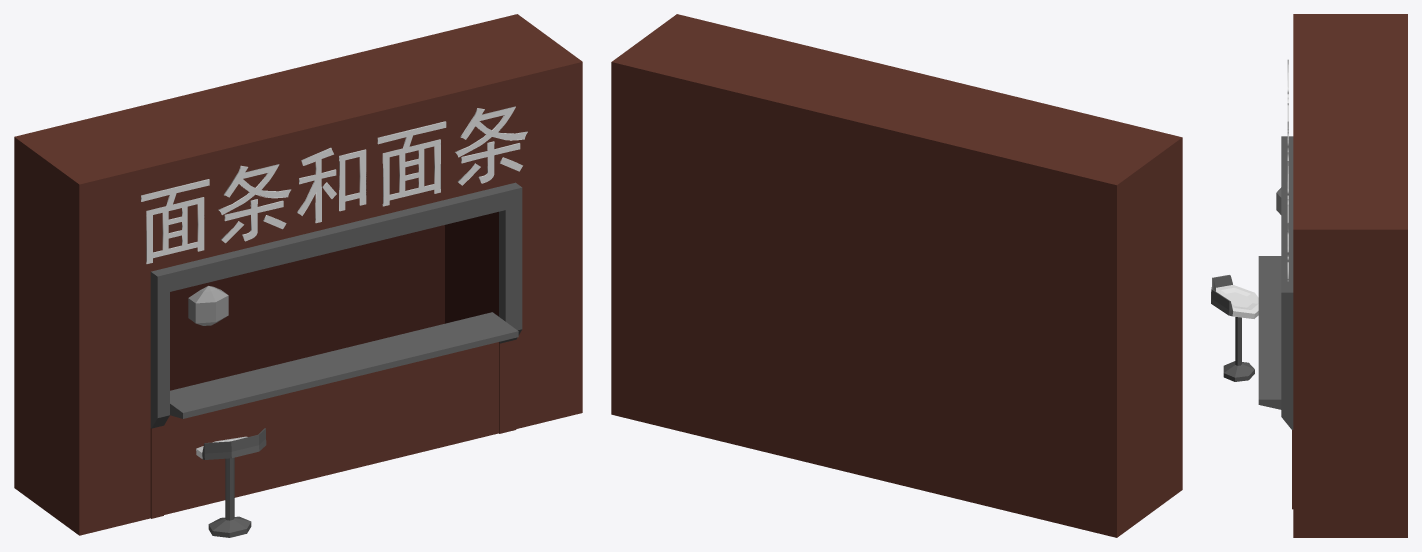
Rendered from NoodleBar.fbx.
3 views of the same model, side by side, from view 1: azimuth 30°, elevation 25°; view 2: azimuth 150°, elevation 25°; view 3: azimuth 270°, elevation 25° (orthographic). The views are drawn at different scales.
Visible parts, largest first — view 1: NoodleBarBuilding, NoodleBarText, NoodleBarChair, NoodleBarLantern; view 2: NoodleBarBuilding; view 3: NoodleBarBuilding, NoodleBarChair, NoodleBarText.
Part boxes in pixels (<box>): NoodleBarBuilding: <box>14,14,582,535</box>; NoodleBarText: <box>141,106,527,263</box>; NoodleBarChair: <box>196,428,266,537</box>; NoodleBarLantern: <box>188,286,228,325</box>; NoodleBarBuilding: <box>611,14,1182,537</box>; NoodleBarBuilding: <box>1258,14,1407,537</box>; NoodleBarChair: <box>1211,275,1258,381</box>; NoodleBarText: <box>1287,59,1288,281</box>.
Size of the model in its own units: 600 by 400 by 231.
